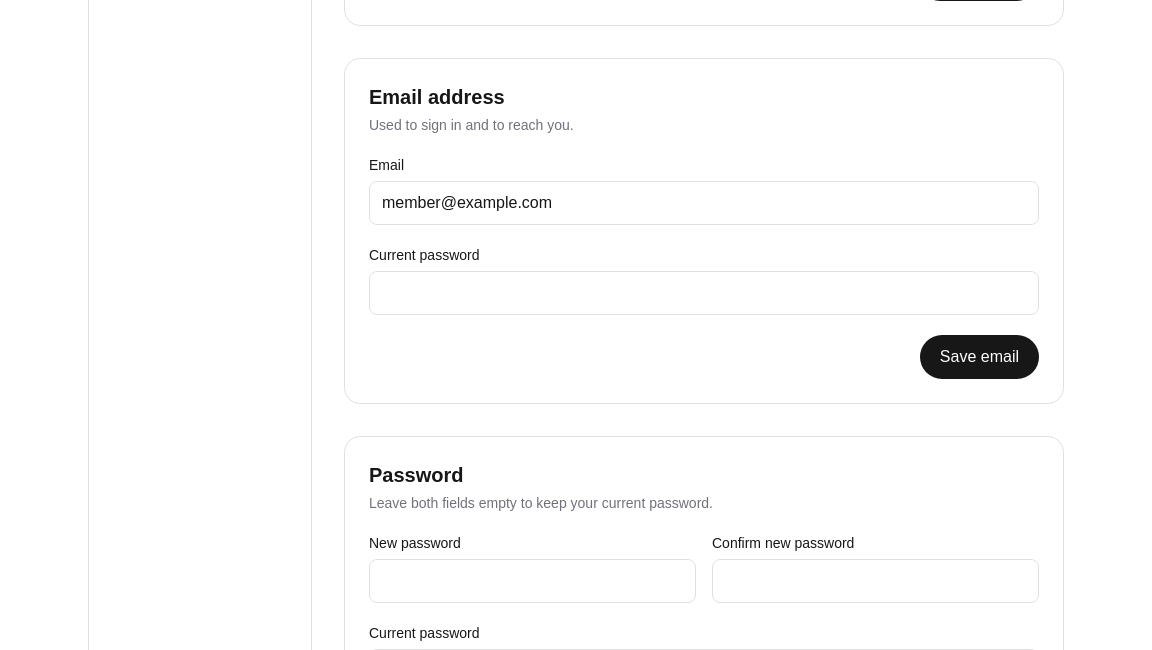
AccountSettingsPage › email block › does not send a request when the email is unchanged
(page scrolled)
Expected: the field labelled "Email" holds "member@example.com", left=369, top=181, right=1039, bottom=225
Click the button "Save email" at (979, 357), box left=920, top=335, right=1039, bottom=379
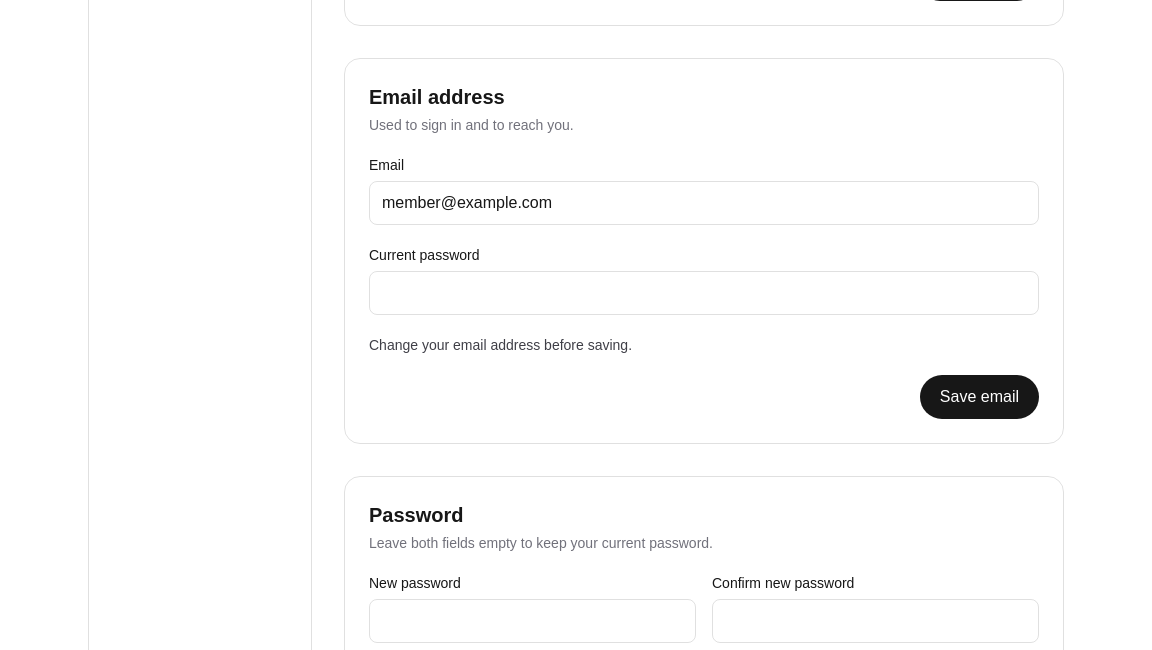
Now the text "Change your email address before saving." is shown, box left=369, top=337, right=632, bottom=353
